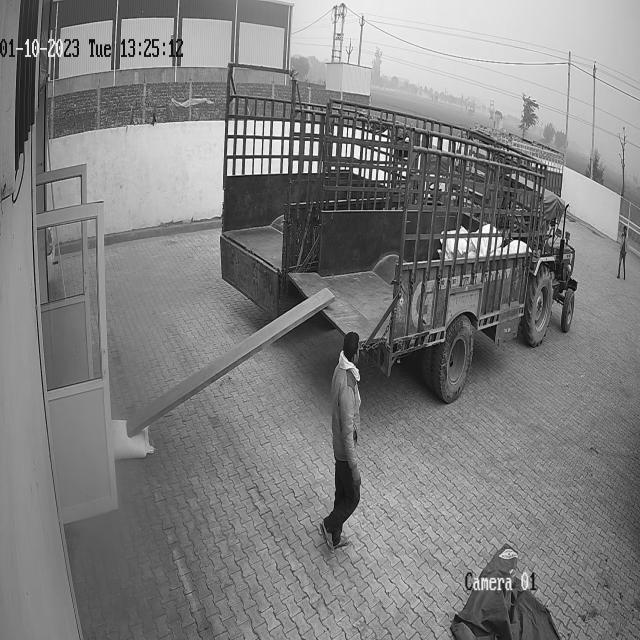sack: (111, 419, 154, 457)
